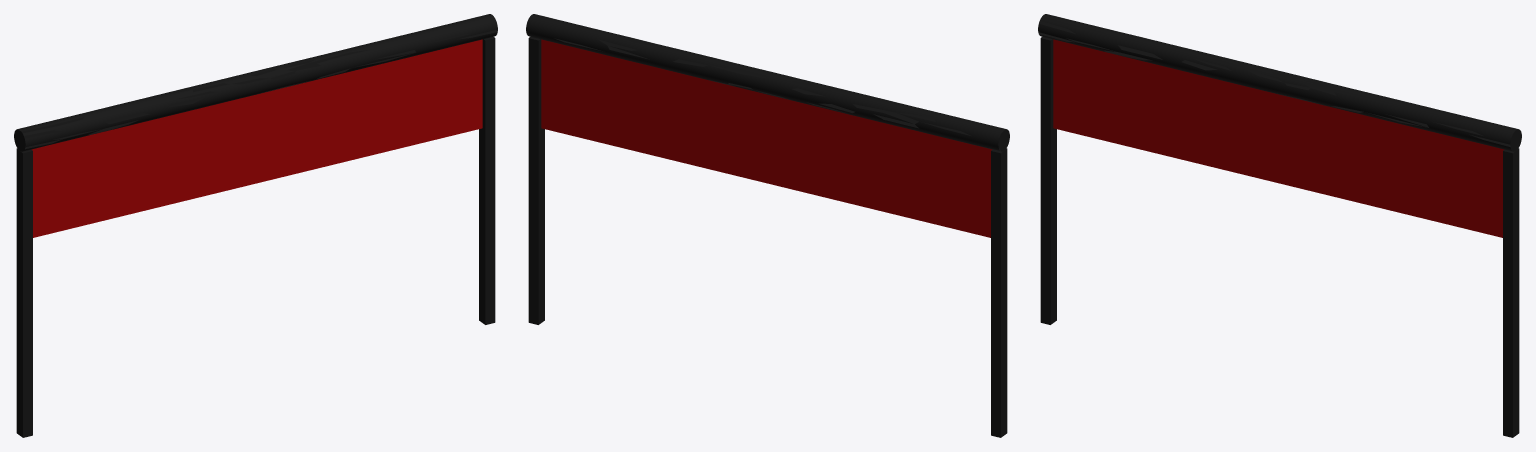
File: oscurante-finito.obj
3 views of the same model, side by side, from view 1: azimuth 30°, elevation 25°; view 2: azimuth 150°, elevation 25°; view 3: azimuth 330°, elevation 25° (orthographic).
Parts seen in each view (by area): view 1: _Estrusione__1600785_, _Estrusione__1600806_, _Estrusione__1600760_, _Estrusione__1600768_; view 2: _Estrusione__1600785_, _Estrusione__1600806_, _Estrusione__1600760_, _Estrusione__1600768_; view 3: _Estrusione__1600785_, _Estrusione__1600806_, _Estrusione__1600768_, _Estrusione__1600760_.
Part boxes in pixels (left/top/right/bottom): _Estrusione__1600785_: left=31, top=39, right=482, bottom=237; _Estrusione__1600806_: left=14, top=14, right=497, bottom=151; _Estrusione__1600760_: left=16, top=148, right=32, bottom=437; _Estrusione__1600768_: left=479, top=37, right=495, bottom=324; _Estrusione__1600785_: left=541, top=39, right=992, bottom=237; _Estrusione__1600806_: left=526, top=14, right=1009, bottom=151; _Estrusione__1600760_: left=991, top=148, right=1007, bottom=437; _Estrusione__1600768_: left=528, top=37, right=544, bottom=324; _Estrusione__1600785_: left=1053, top=39, right=1504, bottom=237; _Estrusione__1600806_: left=1038, top=14, right=1521, bottom=151; _Estrusione__1600768_: left=1503, top=148, right=1519, bottom=437; _Estrusione__1600760_: left=1040, top=37, right=1056, bottom=324.
Size of the model in its own units: 130 by 80.31 by 5.52.
